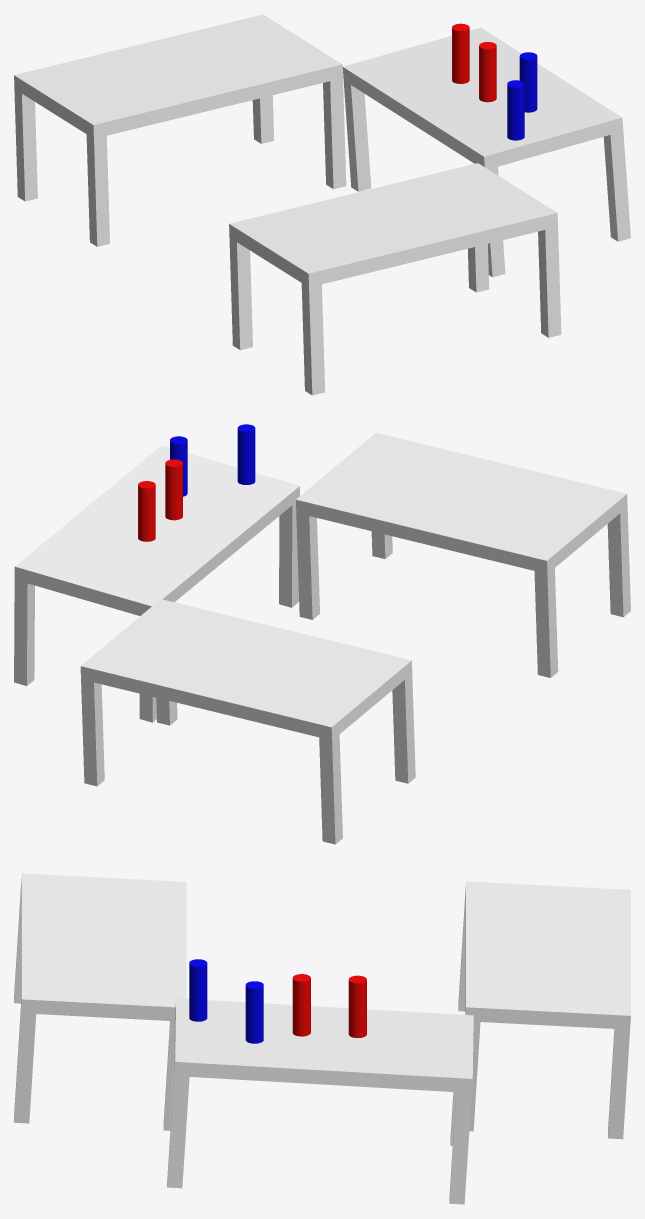
The model's file is tempalate.dae.
The picture shows the model from 3 angles, top to bottom: view 1: azimuth 30°, elevation 25°; view 2: azimuth 150°, elevation 25°; view 3: azimuth 270°, elevation 25°; orthographic projection. The views are drawn at different scales.
Parts seen in each view (by area): view 1: SketchUp (×3), base (×4); view 2: SketchUp (×3), base (×4); view 3: SketchUp (×3), base (×4).
Boxes of the visible parts, box(x1,y1,x2,y2) form: SketchUp (×3): box(14, 14, 630, 395); base (×4): box(452, 23, 537, 140); SketchUp (×3): box(14, 432, 630, 844); base (×4): box(138, 424, 255, 541); SketchUp (×3): box(14, 873, 630, 1204); base (×4): box(189, 959, 366, 1043).
Bounding box in the file's own units: 1.56 × 2.04 × 0.7242.
